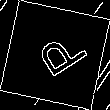P_SW: (24, 26, 86, 84)
